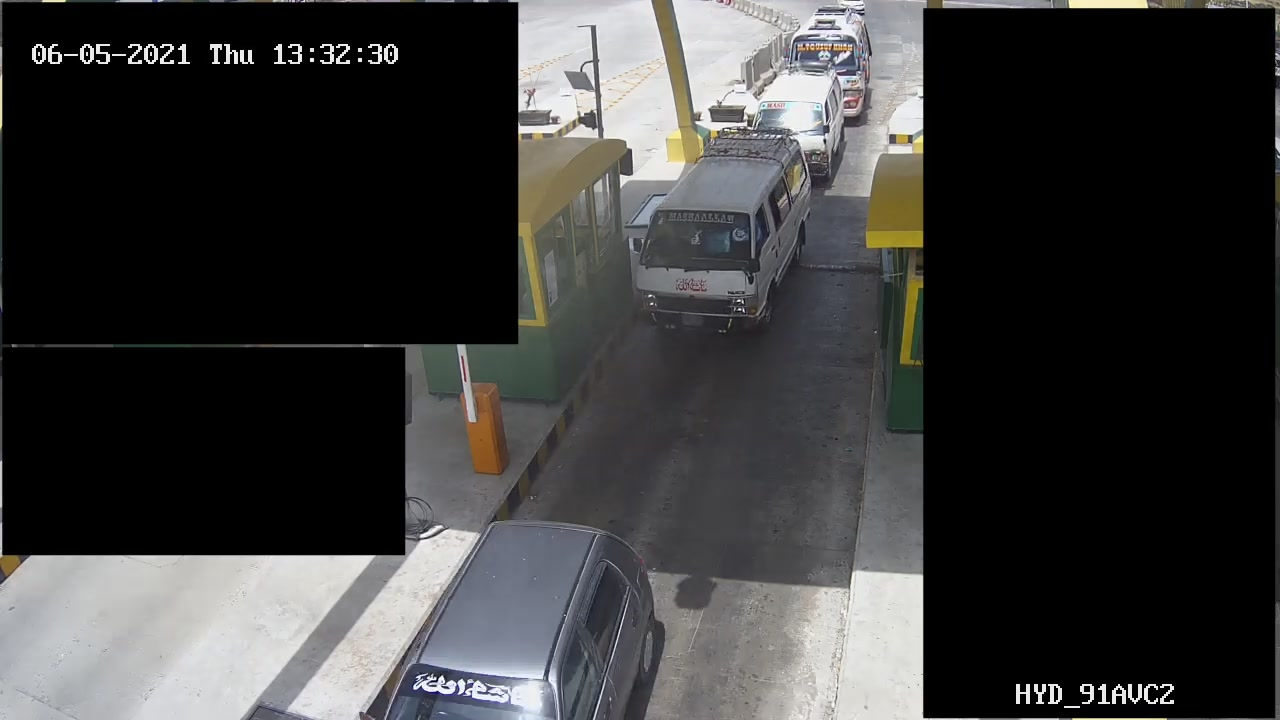F2: (635, 129, 801, 346)
